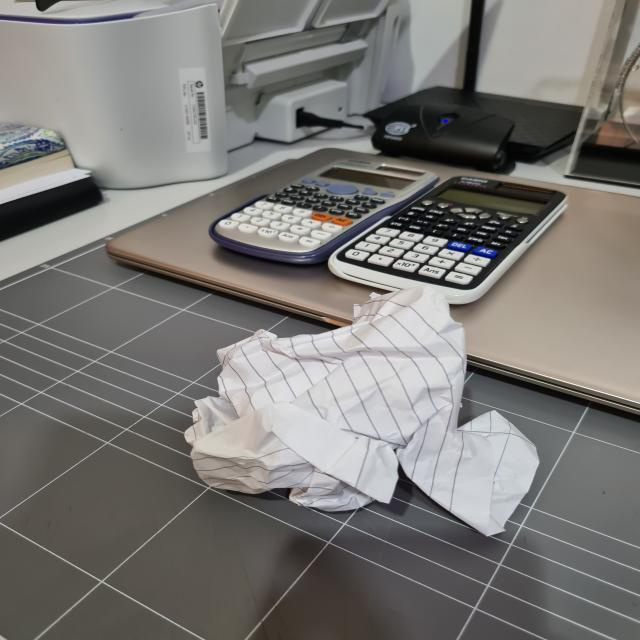Paper: (185, 294, 534, 540)
